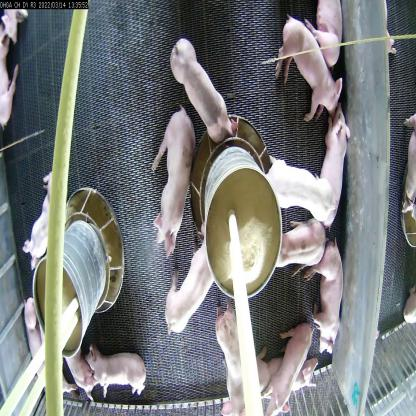Pig: (167, 29, 246, 149), (149, 104, 203, 262), (151, 228, 219, 352), (270, 16, 344, 127), (21, 294, 80, 415), (302, 230, 350, 374), (263, 149, 334, 241), (261, 314, 316, 415), (213, 294, 256, 415), (19, 160, 63, 275), (87, 336, 152, 410), (322, 97, 354, 231), (297, 0, 354, 72), (267, 216, 328, 280), (247, 340, 289, 404), (65, 340, 98, 412)
